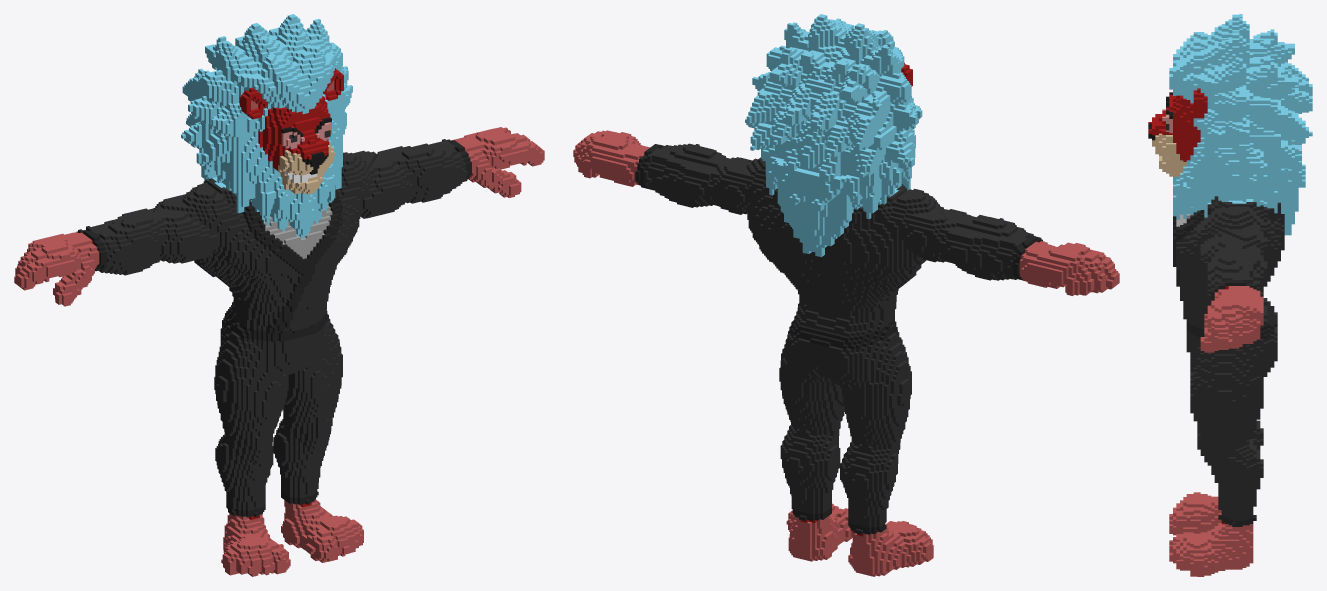
File: 509-Bzi7u8Hz.fbx
3 renders of one model, left to right at view 1: azimuth 30°, elevation 25°; view 2: azimuth 150°, elevation 25°; view 3: azimuth 270°, elevation 25°, orthographic. The views are drawn at different scales.
Parts seen in each view (by area): view 1: grin; view 2: grin; view 3: grin.
Boxes of the visible parts, bbox=[...] form: grin: bbox=[14, 14, 544, 576]; grin: bbox=[573, 14, 1119, 576]; grin: bbox=[1148, 14, 1312, 576].
Bounding box in the file's own units: 17.2 × 16.5 × 4.7.
Materials: 5 (5 with a texture image).
